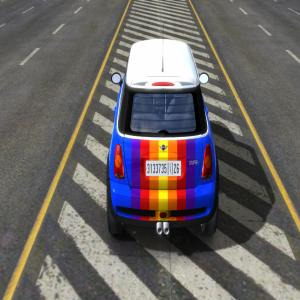Vehicle-registration-plate: (146, 159, 182, 178)
